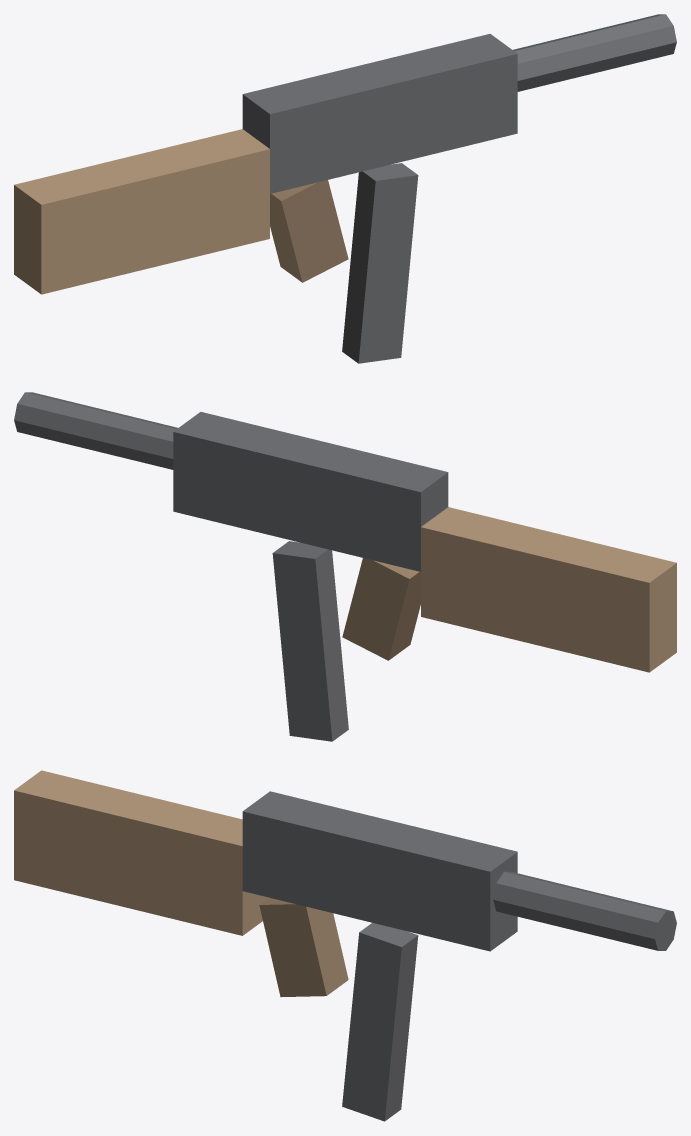
The model's file is held_weapon_smg.glb.
3 renders of one model, top to bottom at view 1: azimuth 30°, elevation 25°; view 2: azimuth 150°, elevation 25°; view 3: azimuth 330°, elevation 25°, orthographic.
Visible parts, largest first — view 1: held_weapon_smg; view 2: held_weapon_smg; view 3: held_weapon_smg.
Part boxes in pixels (box(x1,y1,x2,y2)): held_weapon_smg: box(14, 14, 676, 363); held_weapon_smg: box(14, 392, 676, 741); held_weapon_smg: box(14, 770, 676, 1121).
Bounding box in the file's own units: 0.67 × 0.2818 × 0.05.
